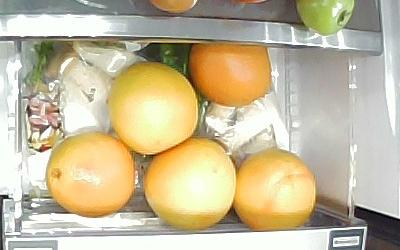grapefruit: (142, 135, 237, 229), (106, 59, 199, 155), (44, 131, 135, 218), (231, 146, 316, 229), (187, 41, 272, 106)
